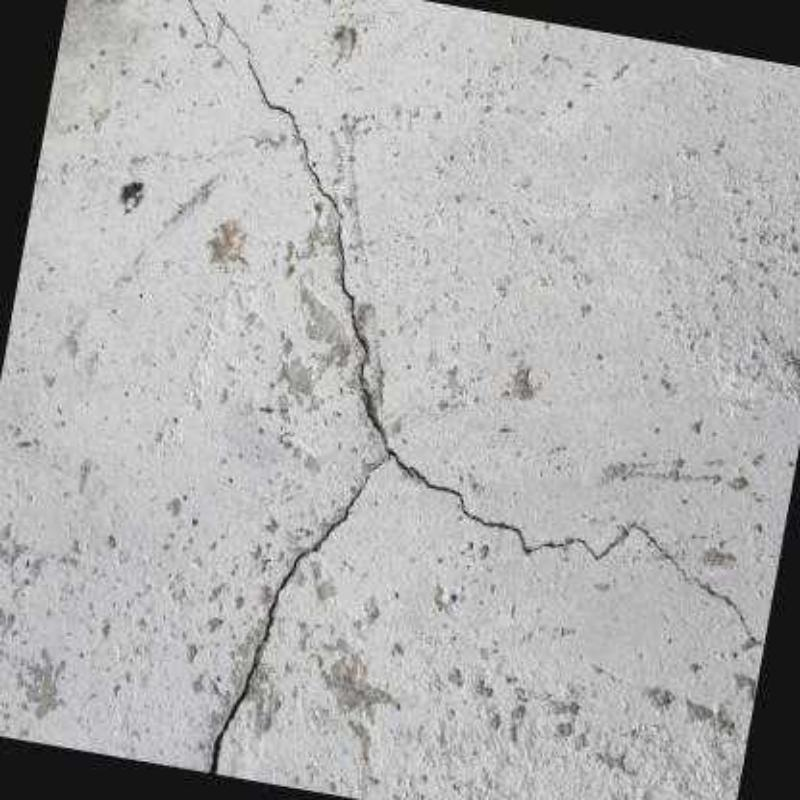pothole: (208, 13, 765, 776)
